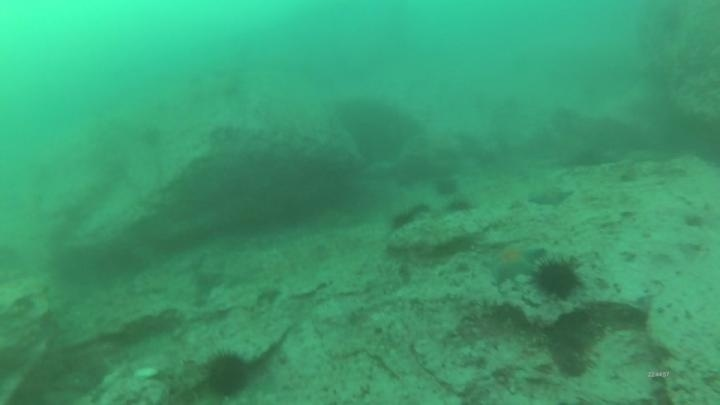echinus: (202, 349, 253, 401), (531, 255, 583, 301), (432, 174, 461, 199), (388, 212, 416, 234), (444, 199, 476, 215), (410, 202, 429, 216)
starfish: (481, 239, 546, 286), (526, 183, 576, 210)
